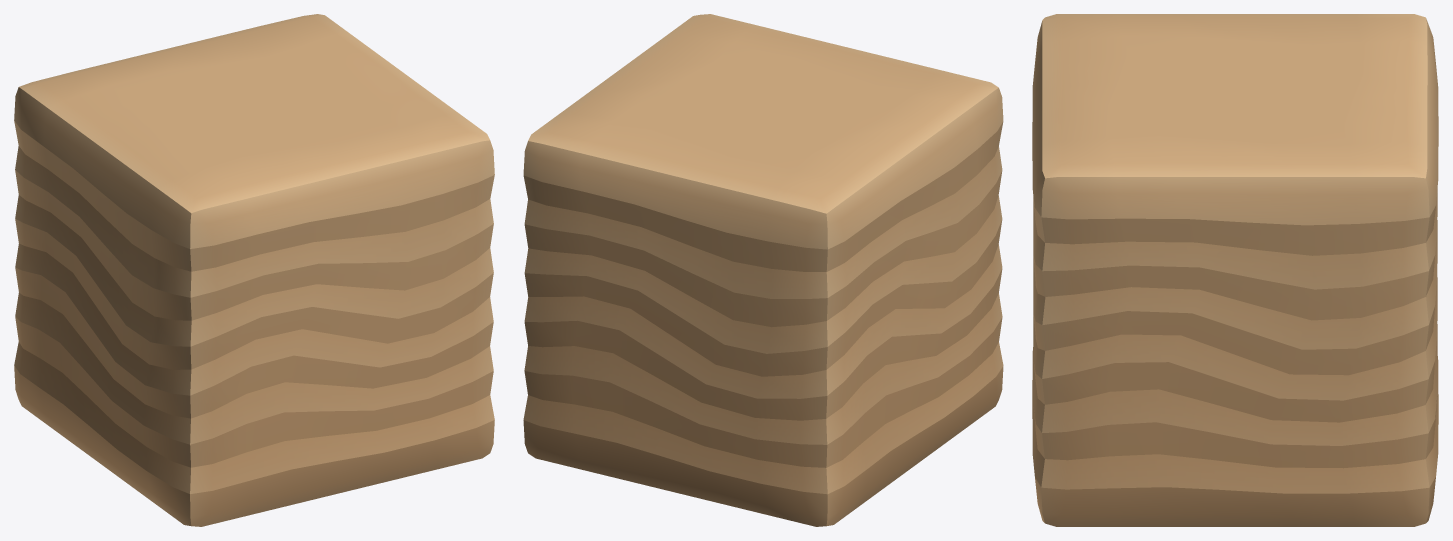
File: sand_B.glb
3 views of the same model, side by side, from view 1: azimuth 30°, elevation 25°; view 2: azimuth 150°, elevation 25°; view 3: azimuth 270°, elevation 25° (orthographic). The views are drawn at different scales.
Parts seen in each view (by area): view 1: sand_B; view 2: sand_B; view 3: sand_B.
Boxes of the visible parts, x1,y1,x2,y2 form: sand_B: (14, 14, 494, 526); sand_B: (523, 14, 1003, 526); sand_B: (1032, 14, 1438, 526).
Size of the model in its own units: 2.04 by 2 by 2.04.
1 material, 1 textured.
